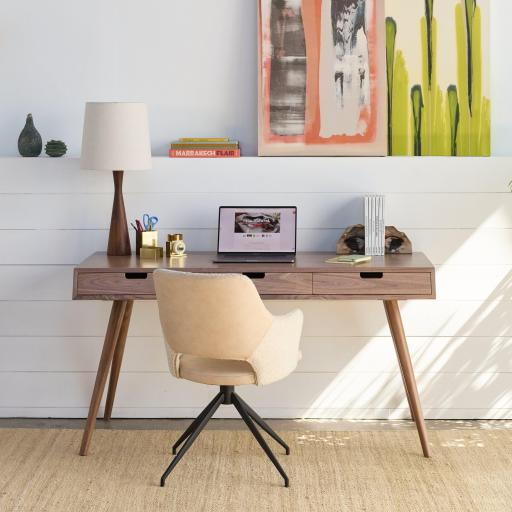table: (66, 226, 440, 464)
